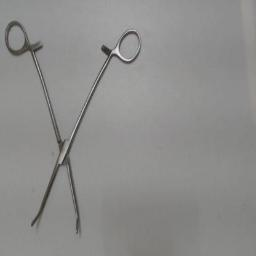Lahey Forceps: (2, 16, 144, 236)
